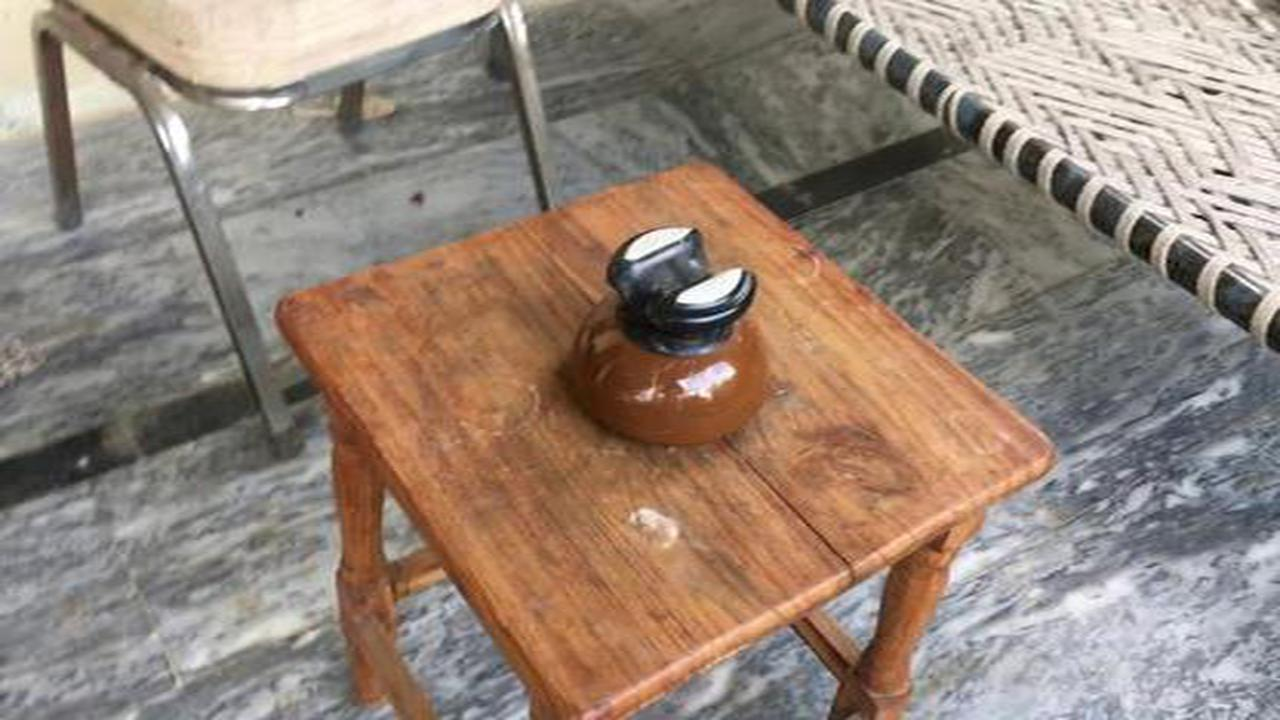insulator_pin: (545, 211, 791, 464)
